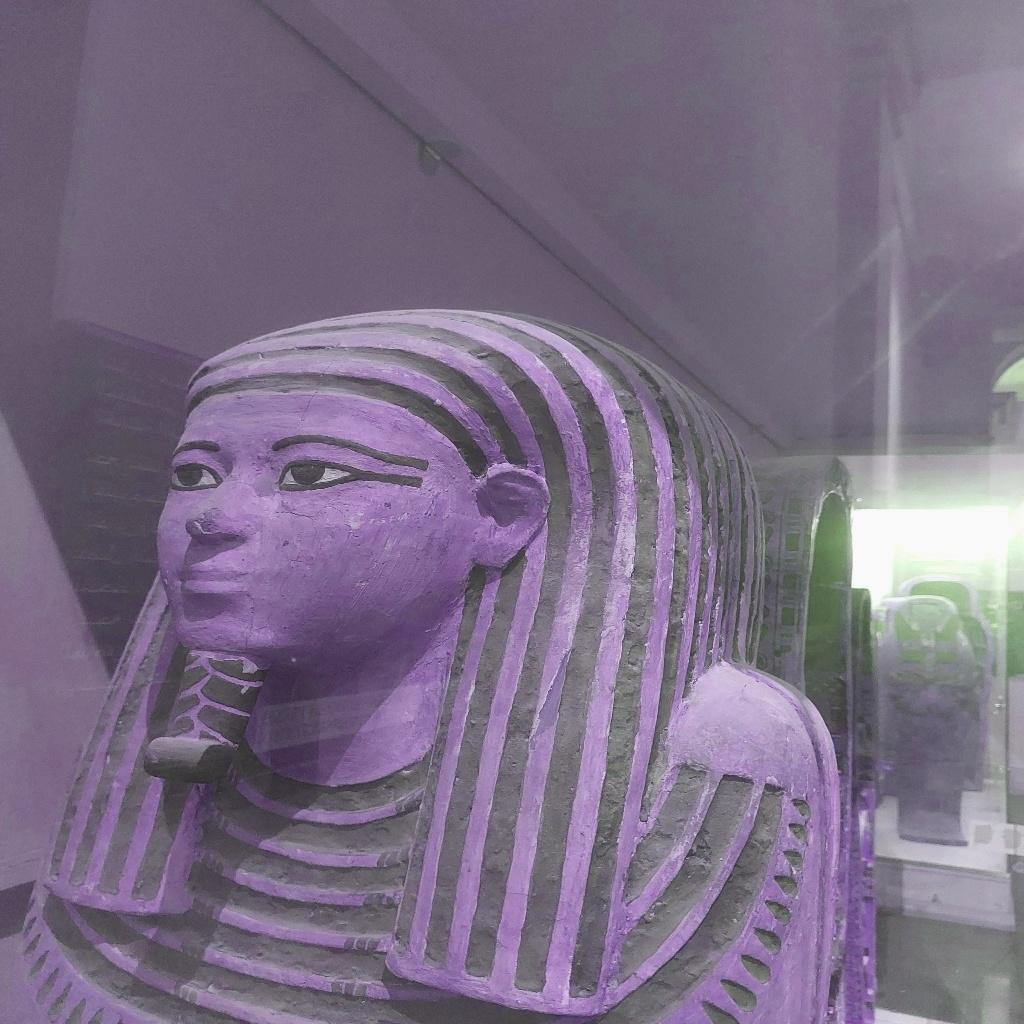Coffin of Ahmose I: (14, 305, 856, 1022)
